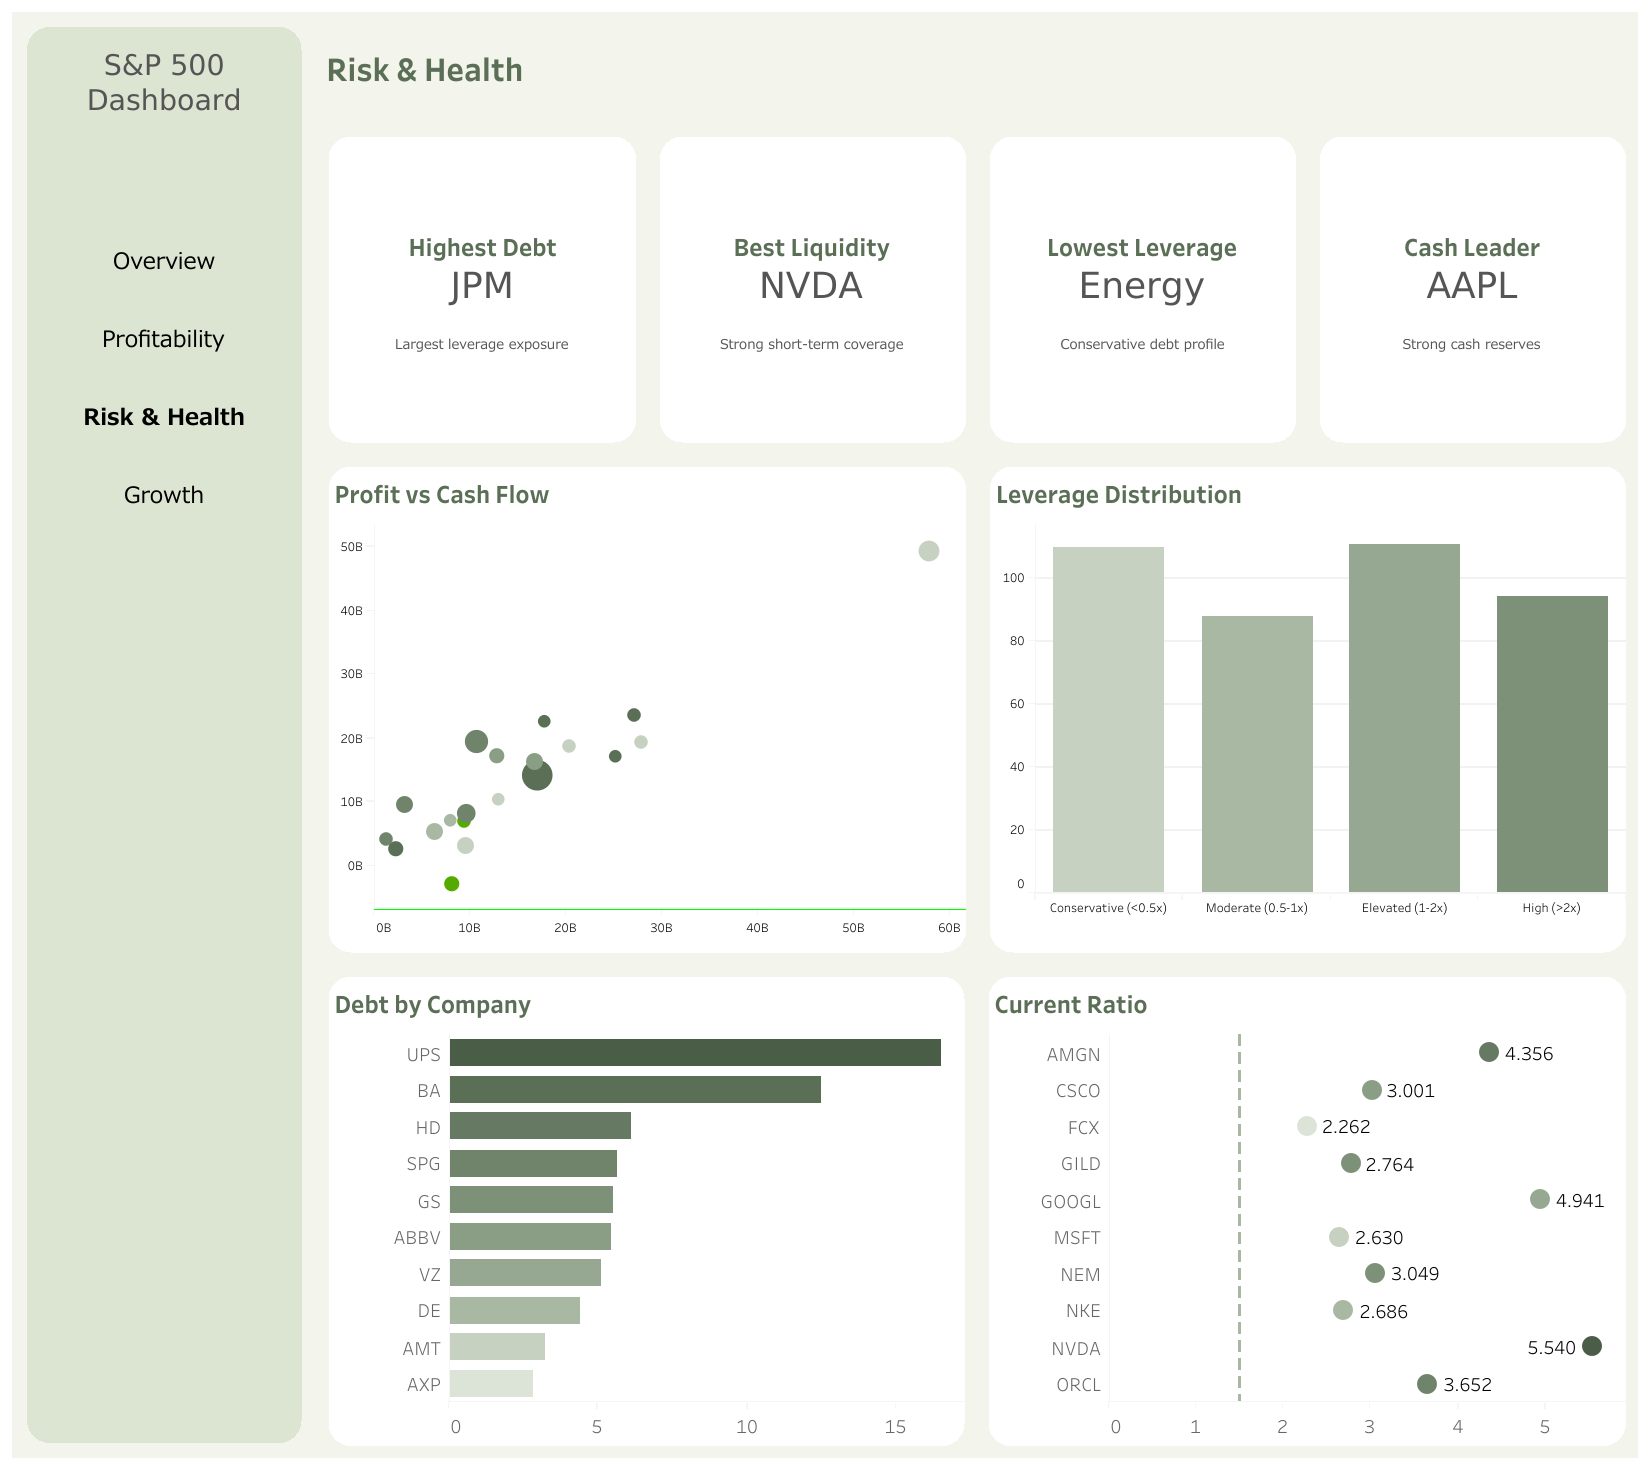

This screenshot's page, from the dashboard's own definition file:
{"tool":"tableau","page":{"name":"Dashboard 3","canvas":[1100,980],"ordinal":2},"visuals":[{"type":"text","box":[211,8,881,75]},{"type":"text","box":[28,28,163,84]},{"type":"worksheet","title":"kpi 3-1","mark":"Automatic","box":[211,83,221,220]},{"type":"worksheet","title":"kpi 3-2","mark":"Automatic","box":[432,83,220,220]},{"type":"worksheet","title":"kpi 3-3","mark":"Automatic","box":[652,83,220,220]},{"type":"worksheet","title":"kpi 3-4","mark":"Automatic","box":[872,83,220,220]},{"type":"blank","box":[28,112,163,65]},{"type":"dashboard-object","box":[28,177,163,52]},{"type":"dashboard-object","box":[28,229,163,52]},{"type":"dashboard-object","box":[28,281,163,52]},{"type":"worksheet","title":"Profit vs Cash","mark":"Circle","rows":["Net Income"],"cols":["Free Cash Flow"],"box":[211,303,441,340]},{"type":"worksheet","title":"graph 3-2","mark":"Automatic","rows":["Ticker"],"cols":["Leverage_Bucket"],"box":[652,303,440,340]},{"type":"dashboard-object","box":[28,333,163,52]},{"type":"worksheet","title":"graph 3-3","mark":"Bar","rows":["Ticker"],"cols":["Debt to Equity"],"box":[211,643,440.5,329]},{"type":"worksheet","title":"graph 3-4","mark":"Circle","rows":["Ticker"],"cols":["currentRatio"],"box":[651.5,643,440.5,329]}]}

Visuals, with their boxes in screenshot pixels (x1, y1, x2, y2), scaled from the page's 1100x980 canvas onto the 1649x1469 screenshot:
text: BBox(316, 12, 1637, 124)
text: BBox(42, 42, 286, 168)
"kpi 3-1" worksheet: BBox(316, 124, 648, 454)
"kpi 3-2" worksheet: BBox(648, 124, 977, 454)
"kpi 3-3" worksheet: BBox(977, 124, 1307, 454)
"kpi 3-4" worksheet: BBox(1307, 124, 1637, 454)
blank: BBox(42, 168, 286, 265)
dashboard-object: BBox(42, 265, 286, 343)
dashboard-object: BBox(42, 343, 286, 421)
dashboard-object: BBox(42, 421, 286, 499)
"Profit vs Cash" worksheet (Circle marks): BBox(316, 454, 977, 964)
"graph 3-2" worksheet: BBox(977, 454, 1637, 964)
dashboard-object: BBox(42, 499, 286, 577)
"graph 3-3" worksheet (Bar marks): BBox(316, 964, 977, 1457)
"graph 3-4" worksheet (Circle marks): BBox(977, 964, 1637, 1457)
